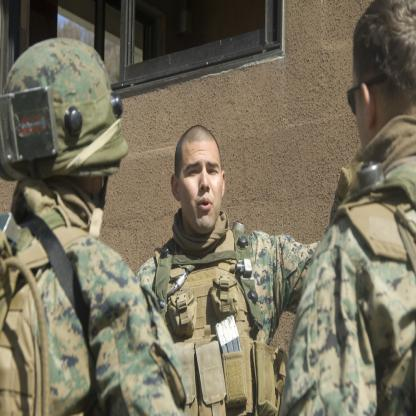Helmet: (0, 42, 127, 188)
